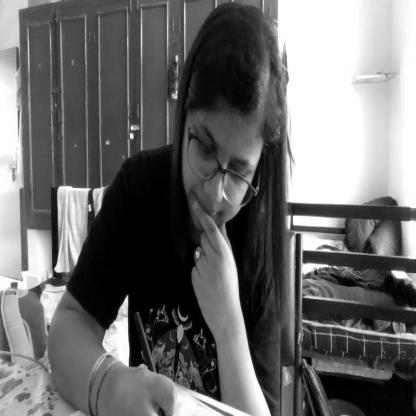Distracted: (180, 11, 287, 255)
